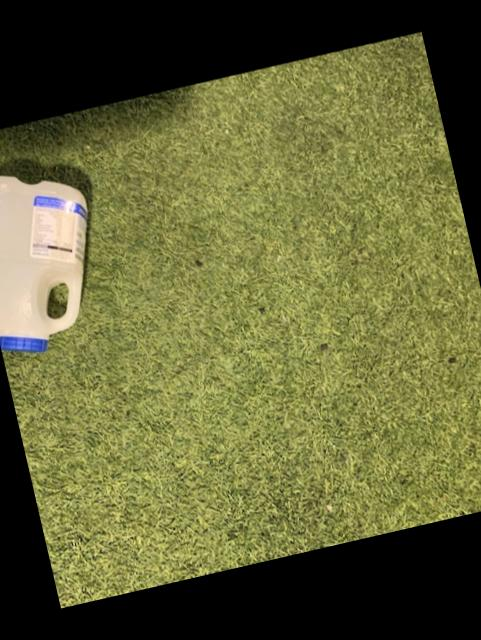plastic: (0, 175, 83, 351)
